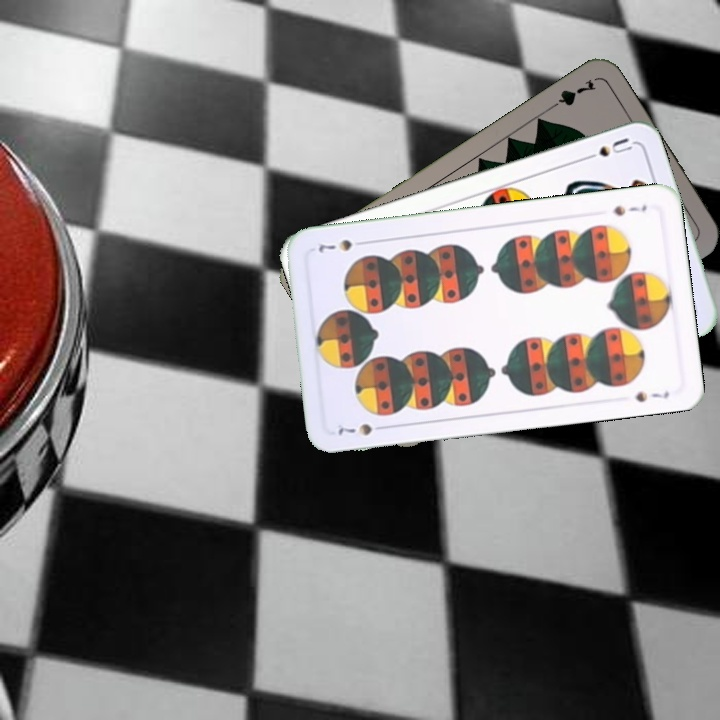G7: (544, 75, 599, 114)
S7: (334, 419, 390, 438), (609, 200, 649, 219)
SU: (578, 133, 635, 164)
